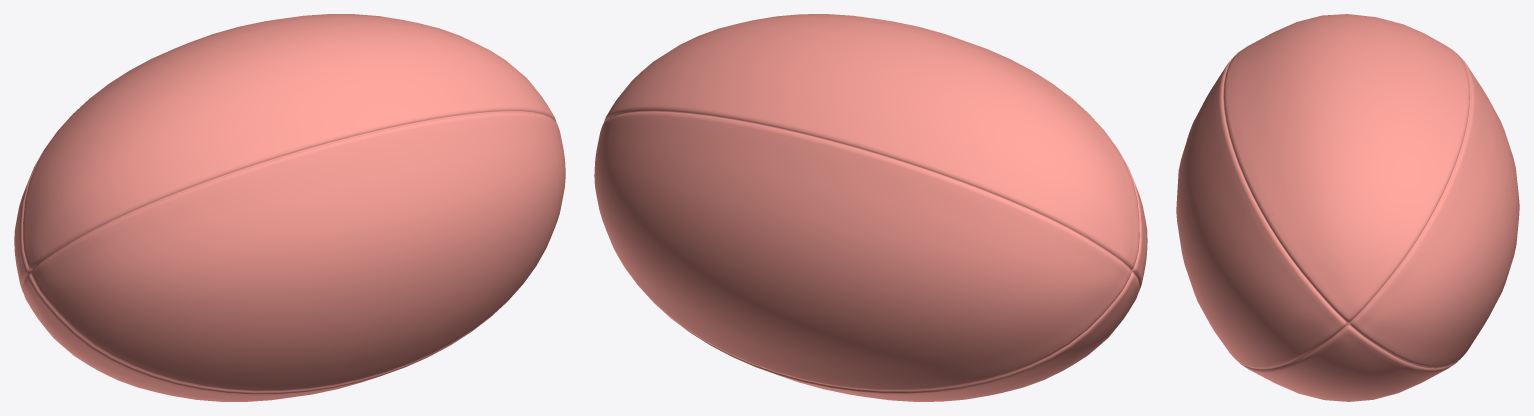
The model's file is ball_013.fbx.
3 views of the same model, side by side, from view 1: azimuth 30°, elevation 25°; view 2: azimuth 150°, elevation 25°; view 3: azimuth 270°, elevation 25° (orthographic). The views are drawn at different scales.
Visible parts, largest first — view 1: rugbyBall; view 2: rugbyBall; view 3: rugbyBall.
Part boxes in pixels (x1=…): rugbyBall: x1=14, y1=14, x2=565, y2=401; rugbyBall: x1=594, y1=14, x2=1147, y2=401; rugbyBall: x1=1176, y1=14, x2=1519, y2=401.
Size of the model in its own units: 2.97 by 1.85 by 1.85.
